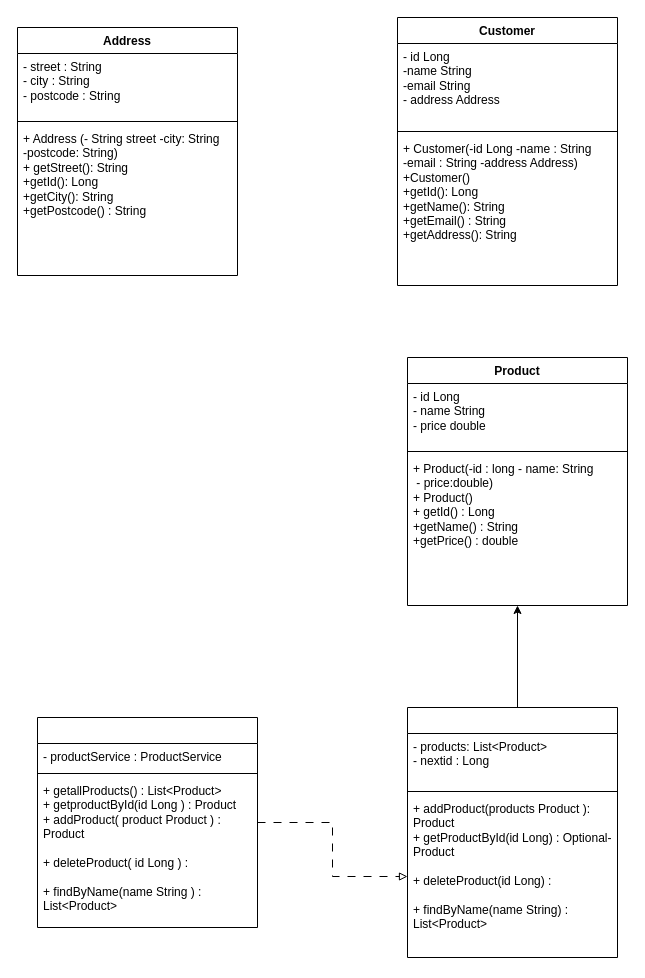
Some shapes in this 645 by 978 pixel diagram are drawn without their labels. Each missing label, with the box of its shape:
ProductController: (36, 716, 258, 928)
ProductServices: (406, 706, 618, 958)
